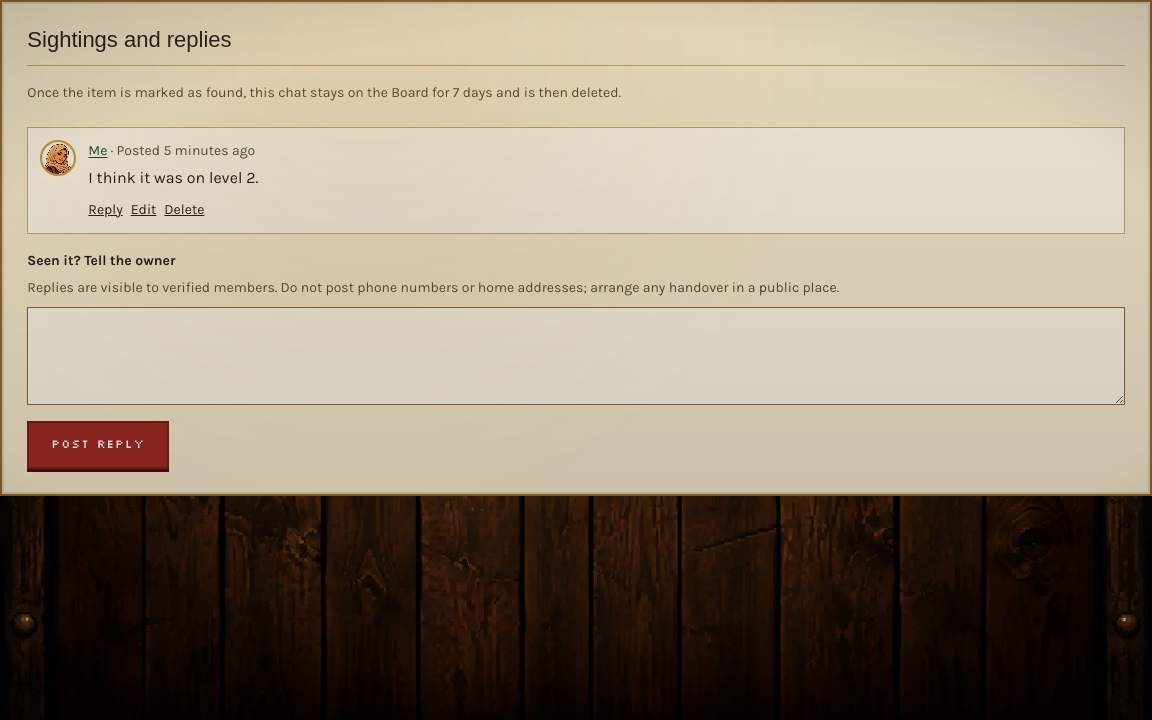
reply, edit, delete and hide › edits your own message within 15 minutes
This screenshot has width=1152, height=720.
Click the button "Edit" at [144, 210], box [131,199,156,220]
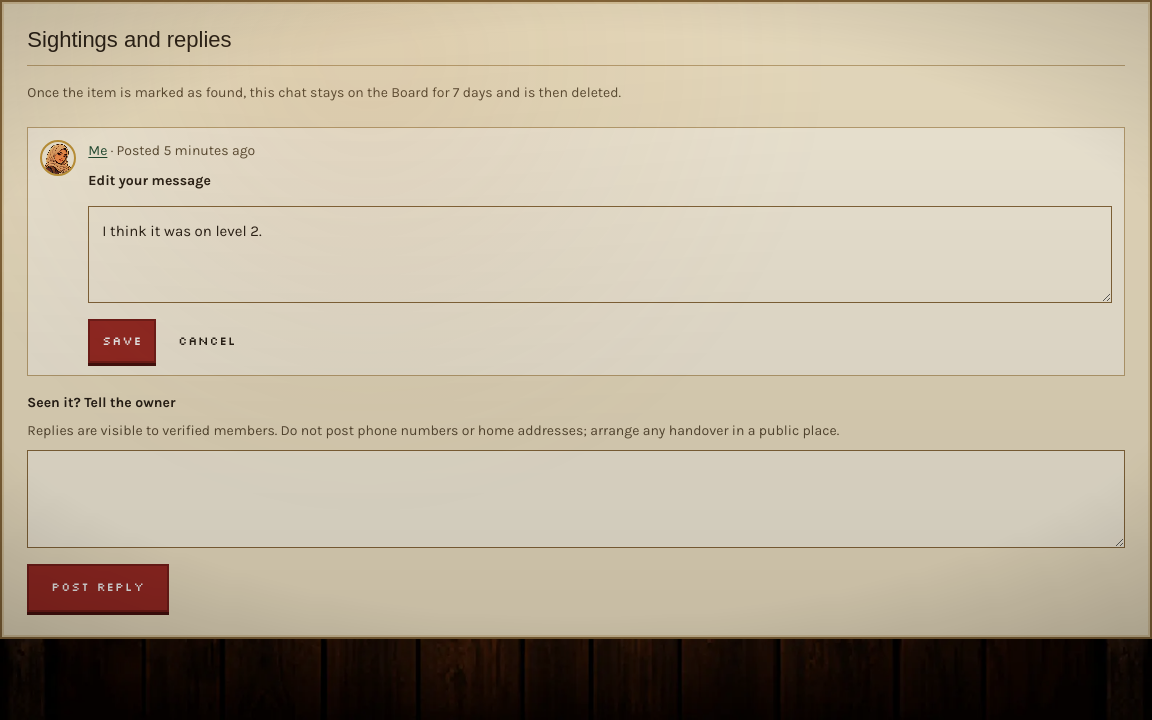
Replace the text in the text box labelled "Edit your message" with "Level 3, actually." at [600, 255], box [88,206,1112,304]
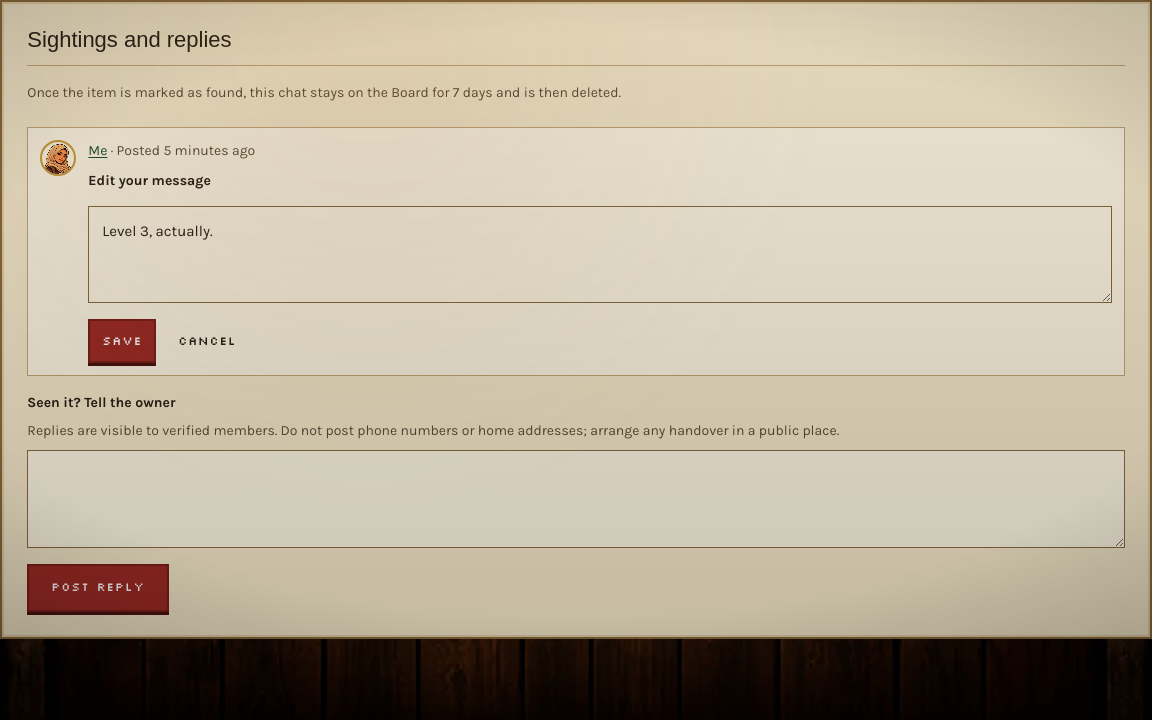
Click the button "Save" at [122, 342], box [88,320,156,364]
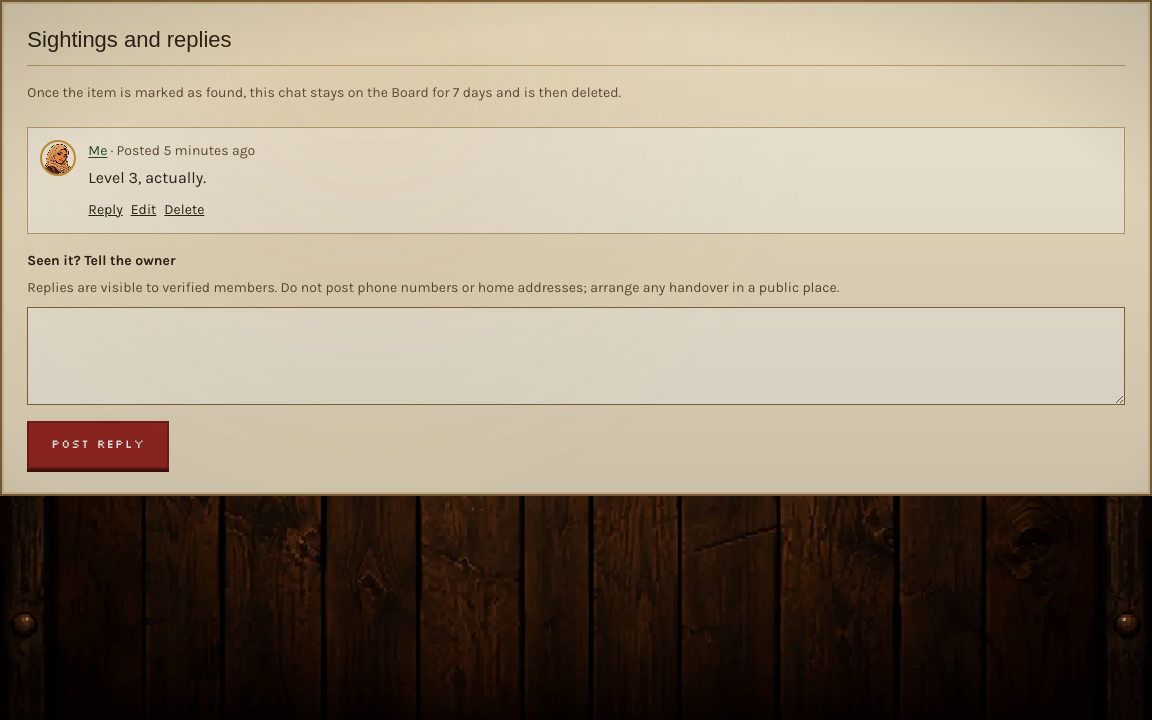
Now the text "Level 3, actually." is shown, box [88,168,206,187]
